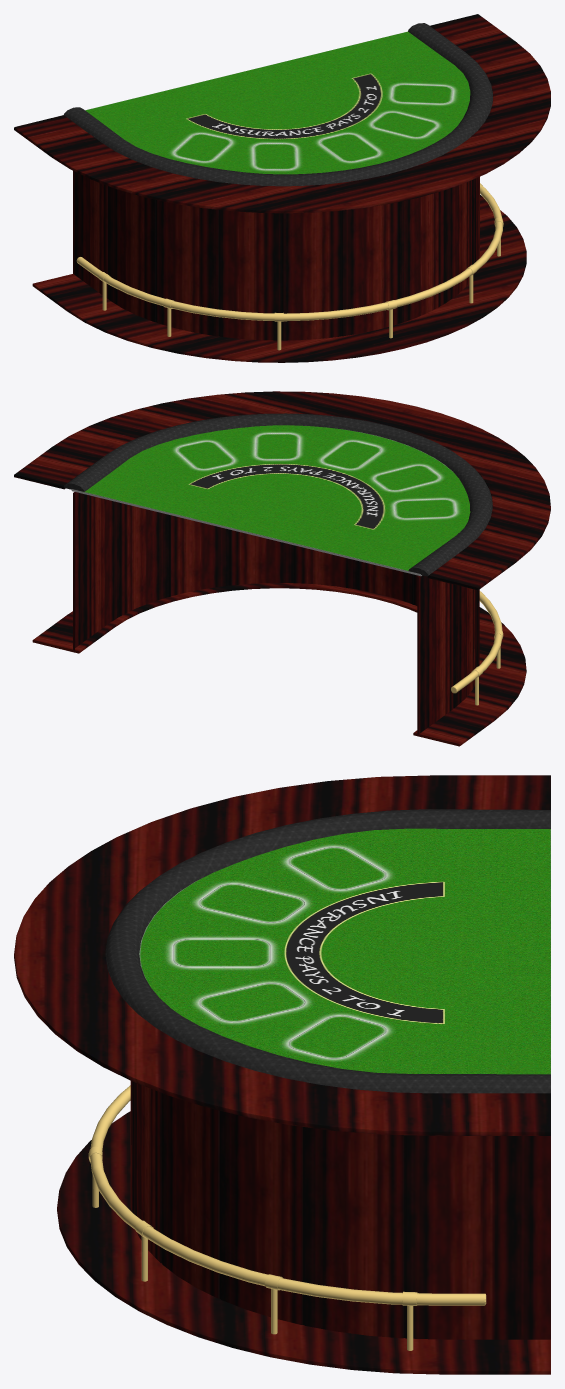
The model's file is blackjack_table_v2.glb.
3 renders of one model, top to bottom at view 1: azimuth 30°, elevation 25°; view 2: azimuth 150°, elevation 25°; view 3: azimuth 270°, elevation 25°, orthographic. The views are drawn at different scales.
Visible parts, largest first — view 1: Shape001, Rectangle005, Rectangle001, Rectangle006, Rectangle004, Shape002; view 2: Rectangle005, Shape001, Rectangle001, Rectangle004, Rectangle006, Shape002; view 3: Rectangle005, Shape001, Rectangle001, Rectangle006, Rectangle004, Shape002.
Part boxes in pixels (box(x1,y1,x2,y2)): Shape001: box(73, 171, 479, 340); Rectangle005: box(85, 31, 470, 174); Rectangle001: box(14, 14, 550, 213); Rectangle006: box(32, 195, 526, 362); Rectangle004: box(64, 23, 492, 186); Shape002: box(76, 184, 502, 321); Rectangle005: box(71, 425, 470, 576); Shape001: box(73, 492, 479, 733); Rectangle001: box(14, 391, 550, 590); Rectangle004: box(64, 413, 492, 576); Rectangle006: box(32, 583, 526, 746); Shape002: box(451, 591, 502, 693); Rectangle005: box(139, 828, 550, 1074); Shape001: box(130, 1081, 550, 1339); Rectangle001: box(14, 775, 550, 1135); Rectangle006: box(57, 1111, 550, 1374); Rectangle004: box(105, 809, 550, 1093); Shape002: box(90, 1085, 486, 1305).
Bounding box in the file's own units: 2.6 × 0.9027 × 1.65.
1 material, 1 textured.
